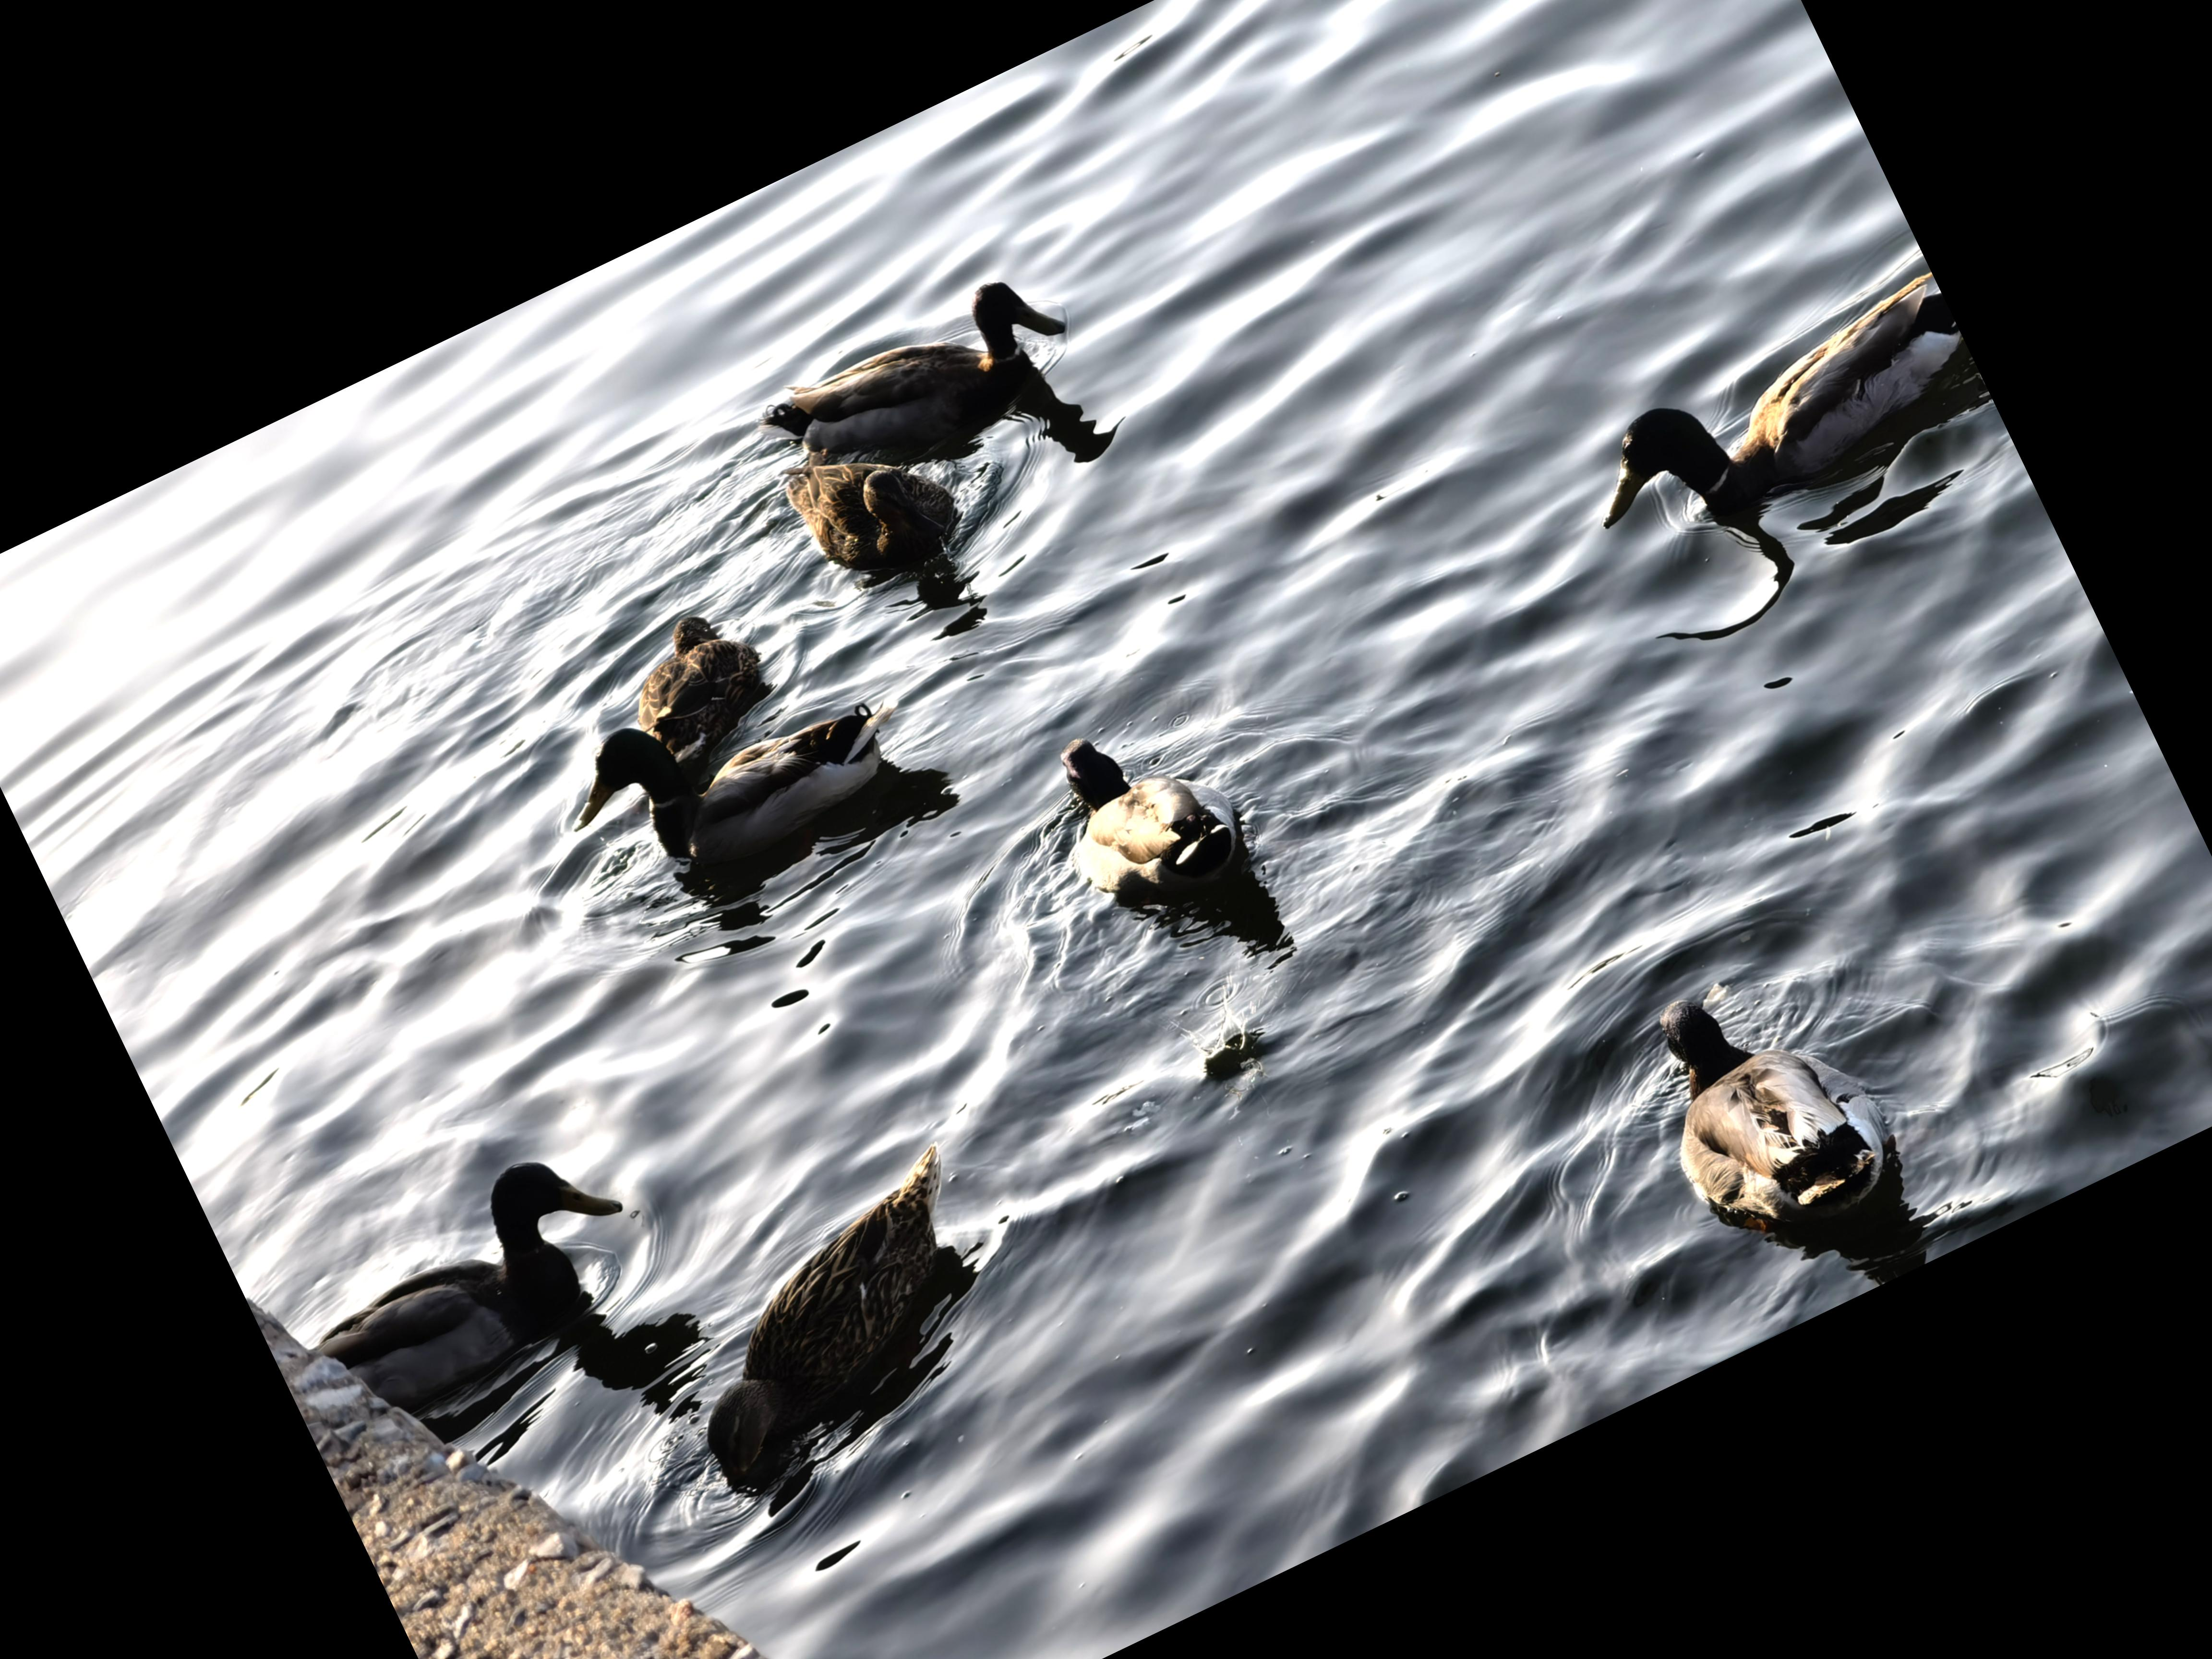duck: (608, 1126, 1061, 1520), (1540, 237, 2005, 605), (1588, 897, 1961, 1291), (547, 608, 967, 945), (268, 1124, 671, 1445), (726, 232, 1115, 544), (1026, 674, 1292, 965), (759, 399, 998, 627), (601, 587, 805, 765)
